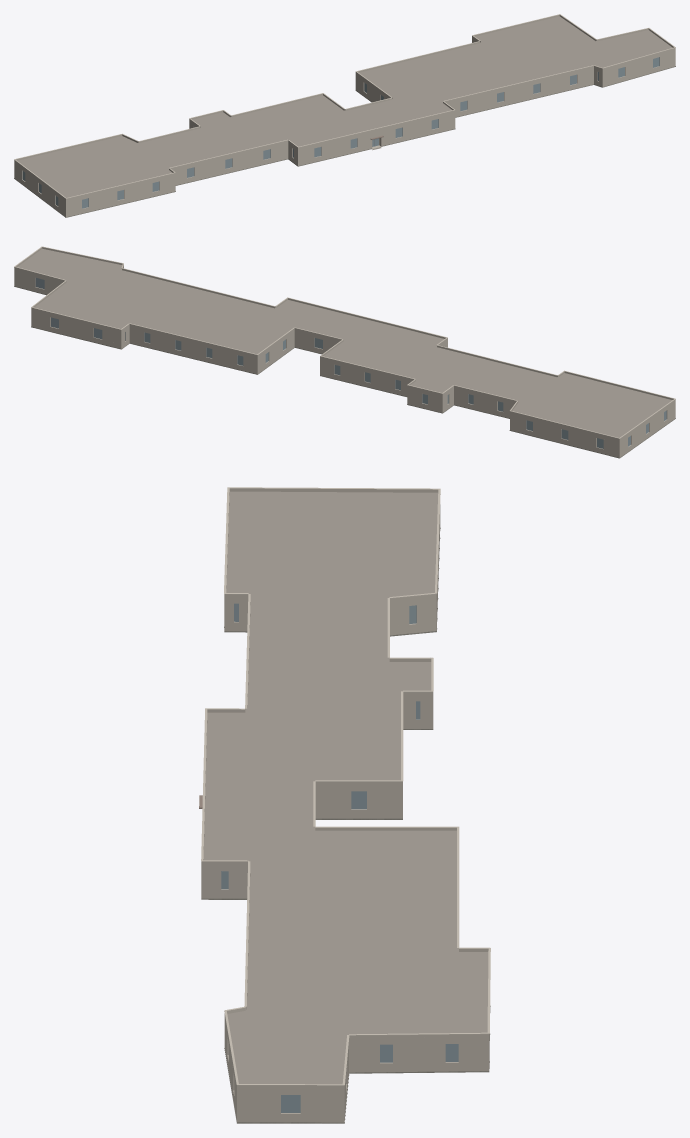
3 renders of one model, top to bottom at view 1: azimuth 30°, elevation 25°; view 2: azimuth 150°, elevation 25°; view 3: azimuth 270°, elevation 25°, orthographic. The views are drawn at different scales.
Parts seen in each view (by area): view 1: osm639992762__roof, osm639992762__wall, osm639992762__parapet, osm639992762__trim, osm639992762__glass, osm639992762__base; view 2: osm639992762__roof, osm639992762__wall, osm639992762__parapet, osm639992762__trim, osm639992762__glass, osm639992762__base; view 3: osm639992762__roof, osm639992762__wall, osm639992762__trim, osm639992762__parapet, osm639992762__glass, osm639992762__base.
Part boxes in pixels (<box>): osm639992762__roof: <box>17,16,672,197</box>; osm639992762__wall: <box>14,37,675,217</box>; osm639992762__parapet: <box>14,14,675,199</box>; osm639992762__trim: <box>14,14,675,198</box>; osm639992762__glass: <box>22,57,659,208</box>; osm639992762__base: <box>14,66,675,217</box>; osm639992762__roof: <box>18,249,672,437</box>; osm639992762__wall: <box>14,265,675,457</box>; osm639992762__parapet: <box>14,247,675,440</box>; osm639992762__trim: <box>14,246,675,438</box>; osm639992762__glass: <box>35,278,666,448</box>; osm639992762__base: <box>14,286,675,458</box>; osm639992762__roof: <box>203,491,488,1084</box>; osm639992762__wall: <box>201,505,490,1122</box>; osm639992762__trim: <box>201,487,490,1085</box>; osm639992762__parapet: <box>201,488,489,1088</box>; osm639992762__glass: <box>221,603,458,1112</box>; osm639992762__base: <box>201,528,490,1123</box>.
Bounding box in the file's own units: 218 × 6.95 × 44.91.
Materials: 10 (1 with a texture image).
